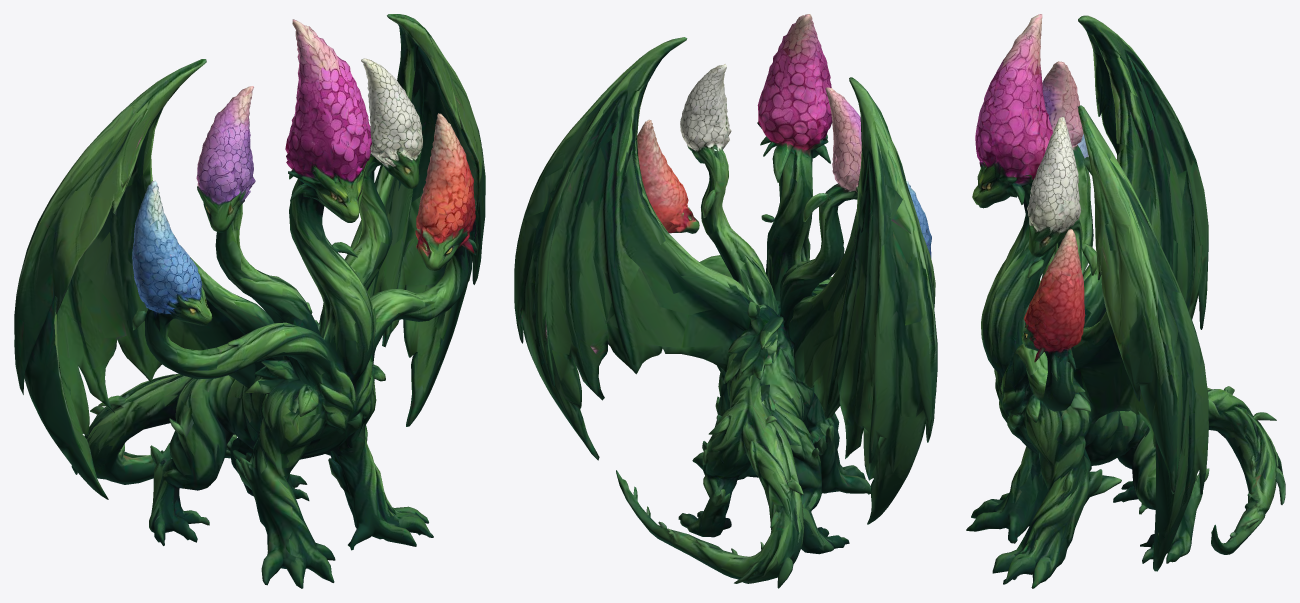
The picture shows the model from 3 angles, left to right: view 1: azimuth 30°, elevation 25°; view 2: azimuth 150°, elevation 25°; view 3: azimuth 270°, elevation 25°; orthographic projection. The views are drawn at different scales.
Visible parts, largest first — view 1: Mesh_0; view 2: Mesh_0; view 3: Mesh_0.
Boxes of the visible parts, box(x1,y1,x2,y2) form: Mesh_0: box(14, 14, 485, 588); Mesh_0: box(514, 14, 937, 588); Mesh_0: box(966, 14, 1285, 588).
Size of the model in its own units: 1.74 by 1.9 by 1.06.
Materials: 1 (1 with a texture image).
